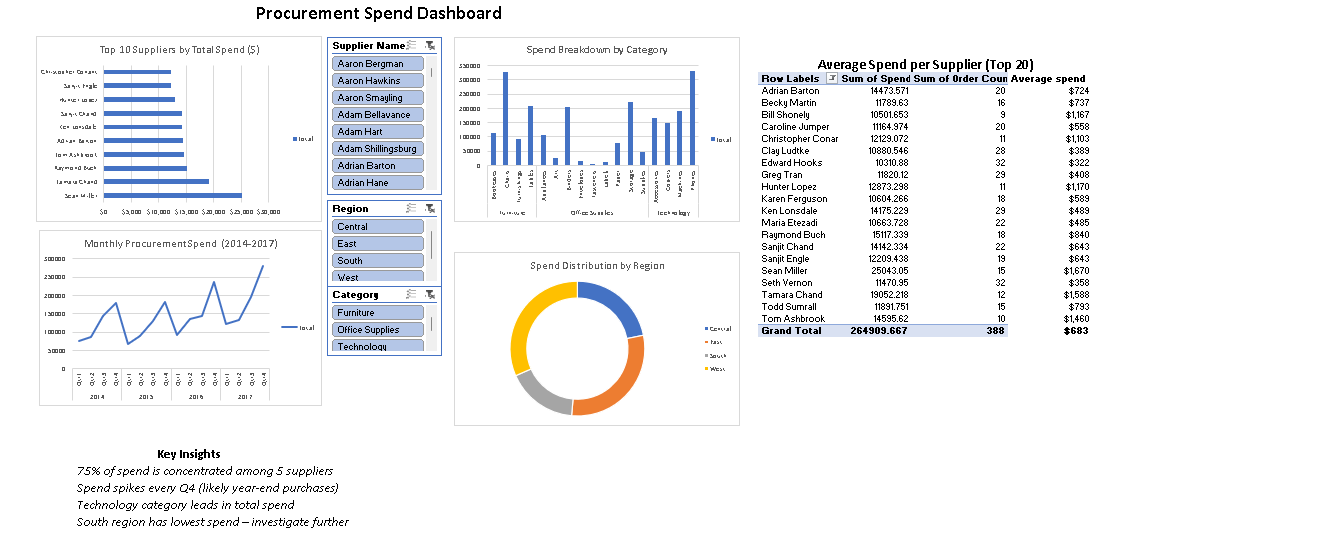

The dashboard page shown, as its layout file describes it:
{"tool":"powerbi","page":{"name":"Page 1","canvas":[1280,720],"ordinal":0},"visuals":[{"type":"lineChart","title":"Monthly Procurement Spend Trend","fields":{"Category":["WorkSheet.MonthYear"],"Y":["WorkSheet.Spend"]},"box":[0,142.8,280.5,280.5],"z":0},{"type":"clusteredBarChart","title":"Top 10 Suppliers by Total Spend ($)","fields":{"Category":["WorkSheet.Supplier Name"],"Y":["WorkSheet.Spend"]},"box":[0,441.8,280.5,278.8],"z":1},{"type":"clusteredColumnChart","title":"Spend by Category and Sub- Category","fields":{"Category":["WorkSheet.Category"],"Y":["WorkSheet.Spend"],"Series":["WorkSheet.Sub-Category"]},"box":[294,122.6,299,300.7],"z":2},{"type":"donutChart","title":"Spend Distribution by Region","fields":{"Category":["WorkSheet.Region"],"Y":["WorkSheet.Spend"]},"box":[294,419.9,299,300.7],"z":3},{"type":"card","title":"Total Spend","fields":{"Values":["WorkSheet.Spend"]},"box":[606.4,122.6,299,124.3],"z":4},{"type":"card","title":"Unique Suppliers","fields":{"Values":["WorkSheet.Supplier Name"]},"box":[640,406.5,299,129.3],"z":5},{"type":"card","title":"Avg Spend per Supplier","fields":{"Values":["WorkSheet.AvgSpendPerSupplier"]},"box":[619.8,258.7,299,129.3],"z":6},{"type":"card","title":"Max Spend(Single Order)","fields":{"Values":["WorkSheet.Spend"]},"box":[663.5,535.9,275.5,151.2],"z":7},{"type":"slicer","fields":{"Values":["WorkSheet.Region"]},"box":[939,127.7,213.3,146.1],"z":8},{"type":"slicer","fields":{"Values":["WorkSheet.Category"]},"box":[939,290.6,213.3,151.2],"z":9},{"type":"slicer","fields":{"Values":["WorkSheet.Order Date"]},"box":[952.4,441.8,213.3,151.2],"z":10},{"type":"textbox","box":[141.1,0,861.7,67.2],"z":11},{"type":"textbox","box":[918.8,581.2,361.2,105.8],"z":12}]}

Visuals, with their boxes on the page's 1280x720 design canvas (x1, y1, x2, y2). These are canvas units, not pixel positions in the 1319x538 screenshot, which may show the page scaled, cropped or inside an application window:
"Monthly Procurement Spend Trend" lineChart: Rect(0, 143, 280, 423)
"Top 10 Suppliers by Total Spend ($)" clusteredBarChart: Rect(0, 442, 280, 721)
"Spend by Category and Sub- Category" clusteredColumnChart: Rect(294, 123, 593, 423)
"Spend Distribution by Region" donutChart: Rect(294, 420, 593, 721)
"Total Spend" card: Rect(606, 123, 905, 247)
"Unique Suppliers" card: Rect(640, 406, 939, 536)
"Avg Spend per Supplier" card: Rect(620, 259, 919, 388)
"Max Spend(Single Order)" card: Rect(664, 536, 939, 687)
slicer - WorkSheet.Region: Rect(939, 128, 1152, 274)
slicer - WorkSheet.Category: Rect(939, 291, 1152, 442)
slicer - WorkSheet.Order Date: Rect(952, 442, 1166, 593)
textbox: Rect(141, 0, 1003, 67)
textbox: Rect(919, 581, 1280, 687)
